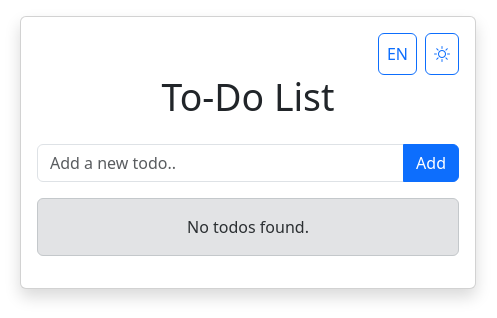
Test case: todoList App › should add a new task
This screenshot has width=497, height=318.
Type "New Task" into the field with placeholder "Add a new todo..".
click(221, 163); type("New Task")  # box [37, 144, 404, 182]
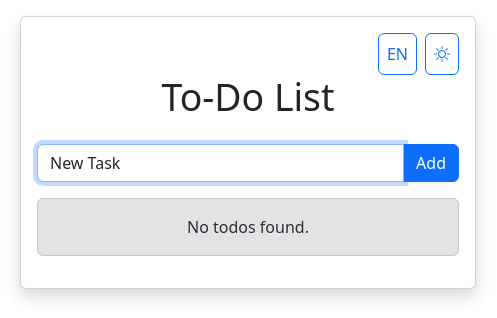
Click the button "Add".
click(431, 163)  # box [403, 144, 459, 182]
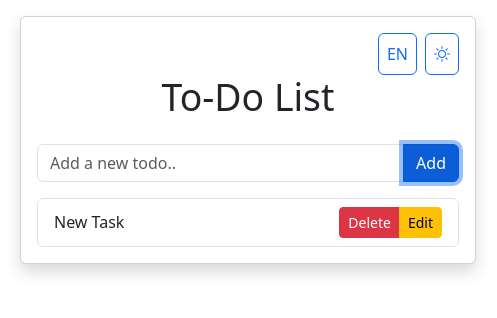
expect the list with class "list-group" shows "New Task": met, box [37, 198, 459, 247]
